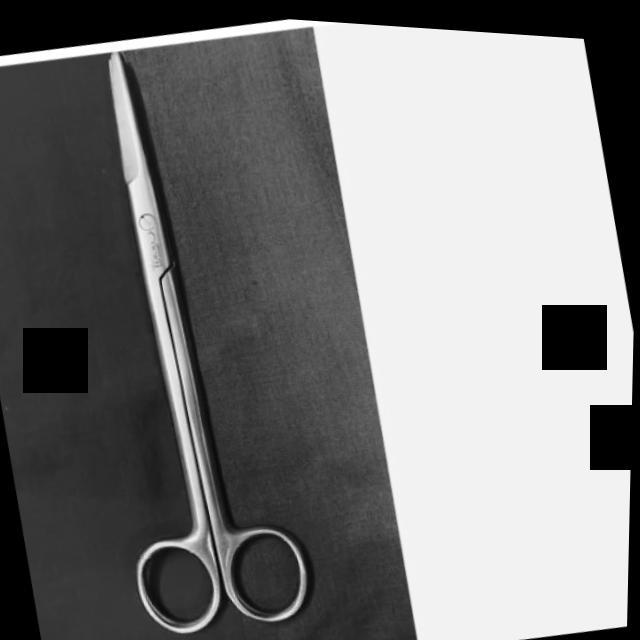Metzenbaum Sciccors: (37, 27, 334, 640)
